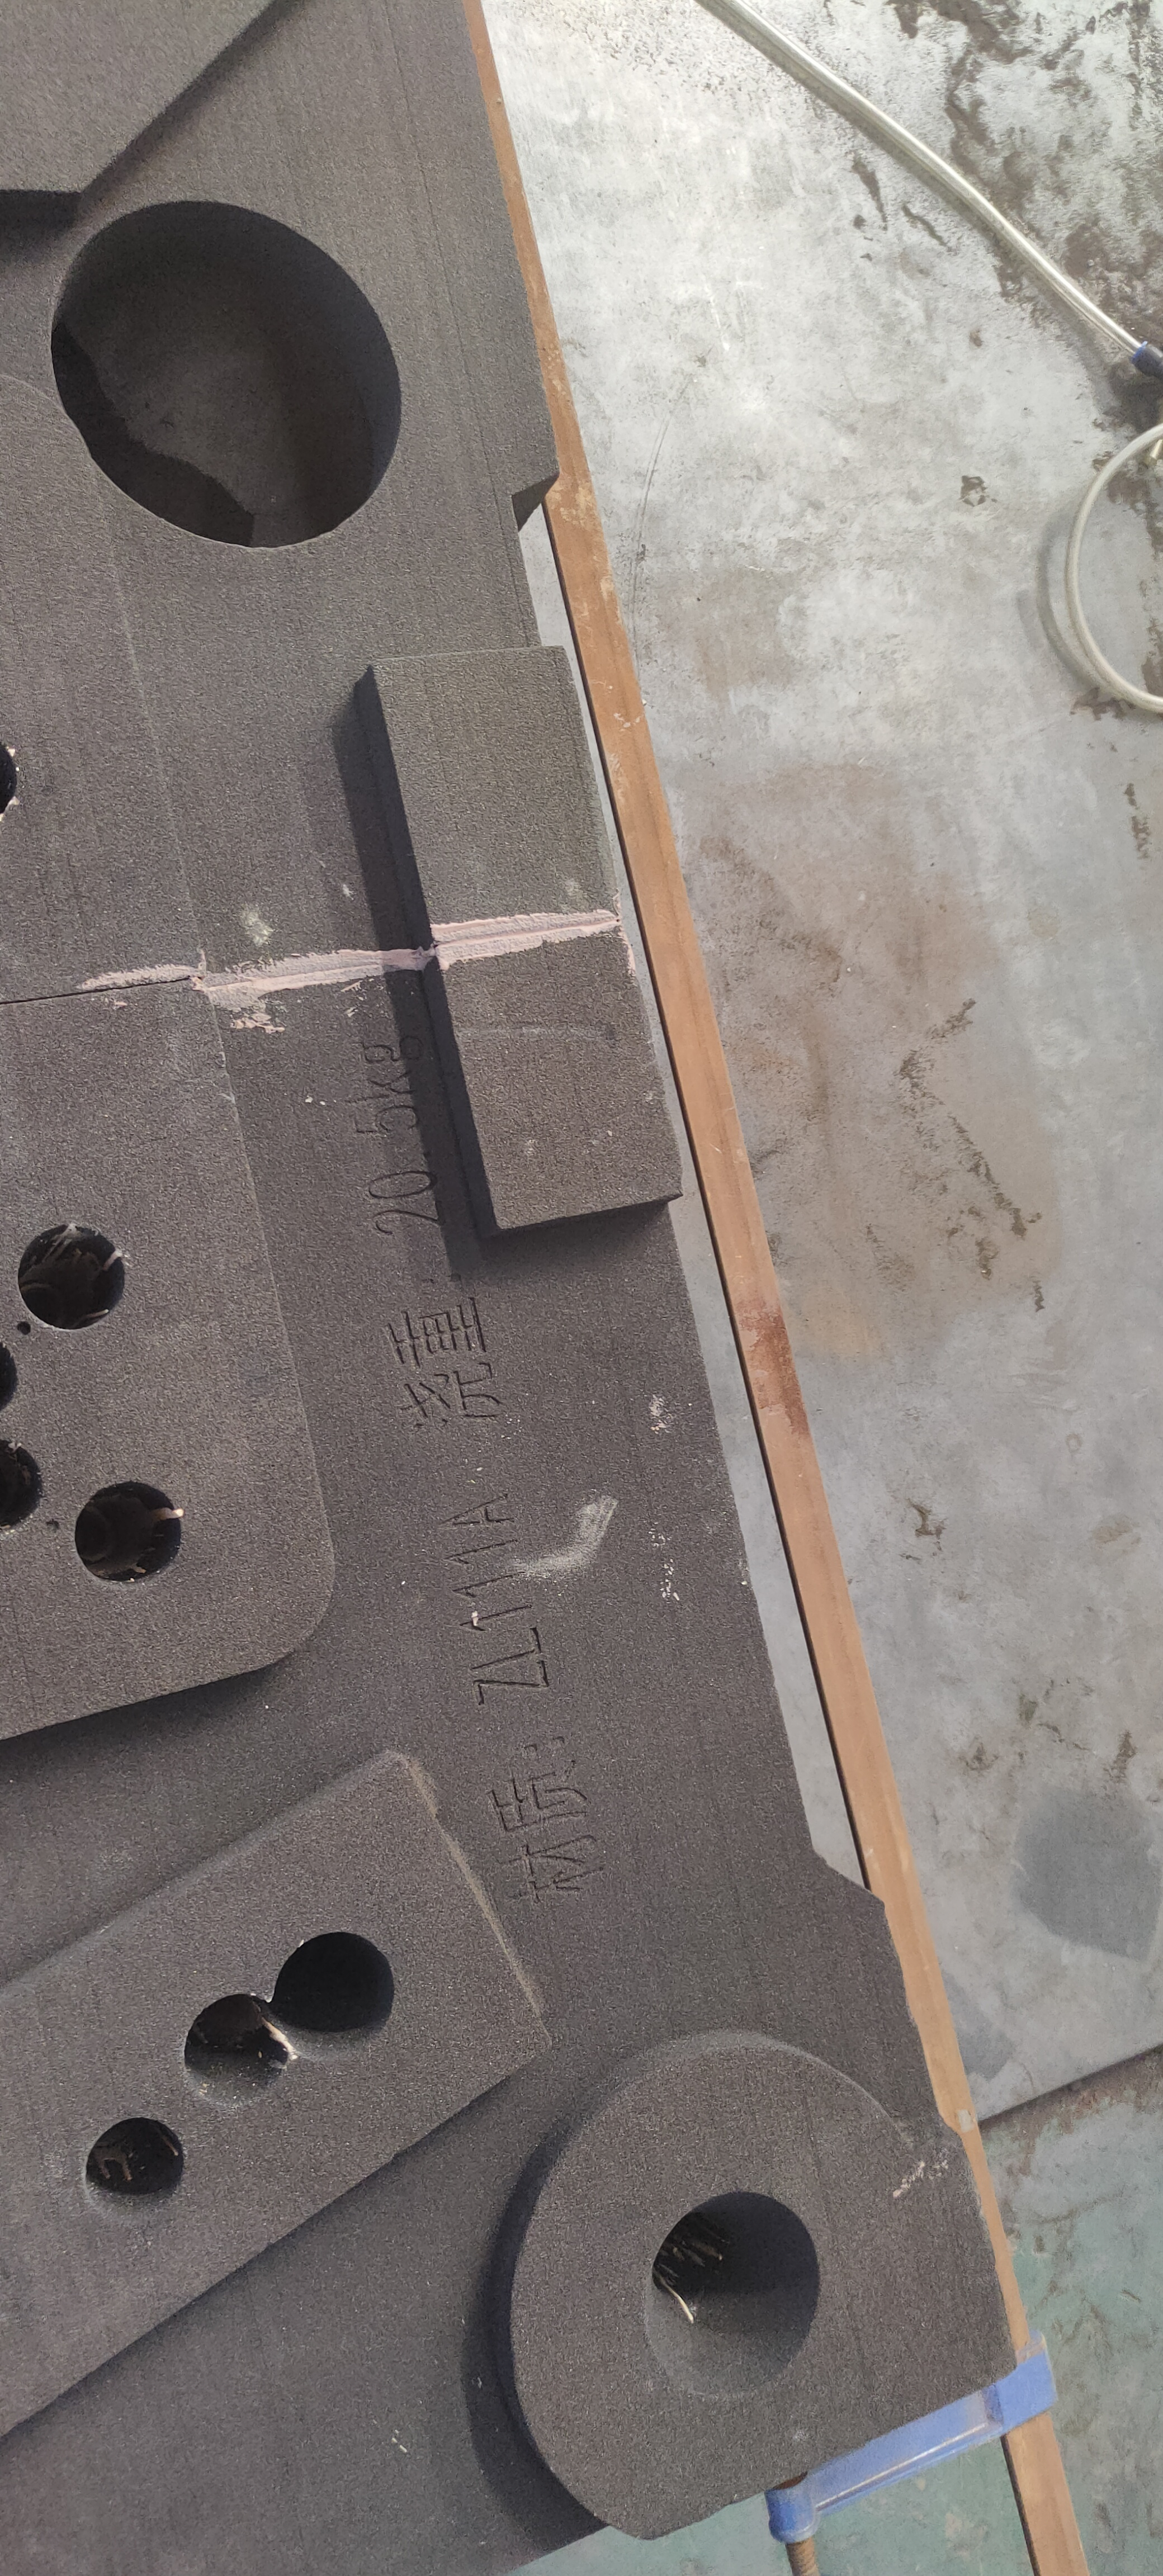pouring hole: (644, 2188, 823, 2407)
